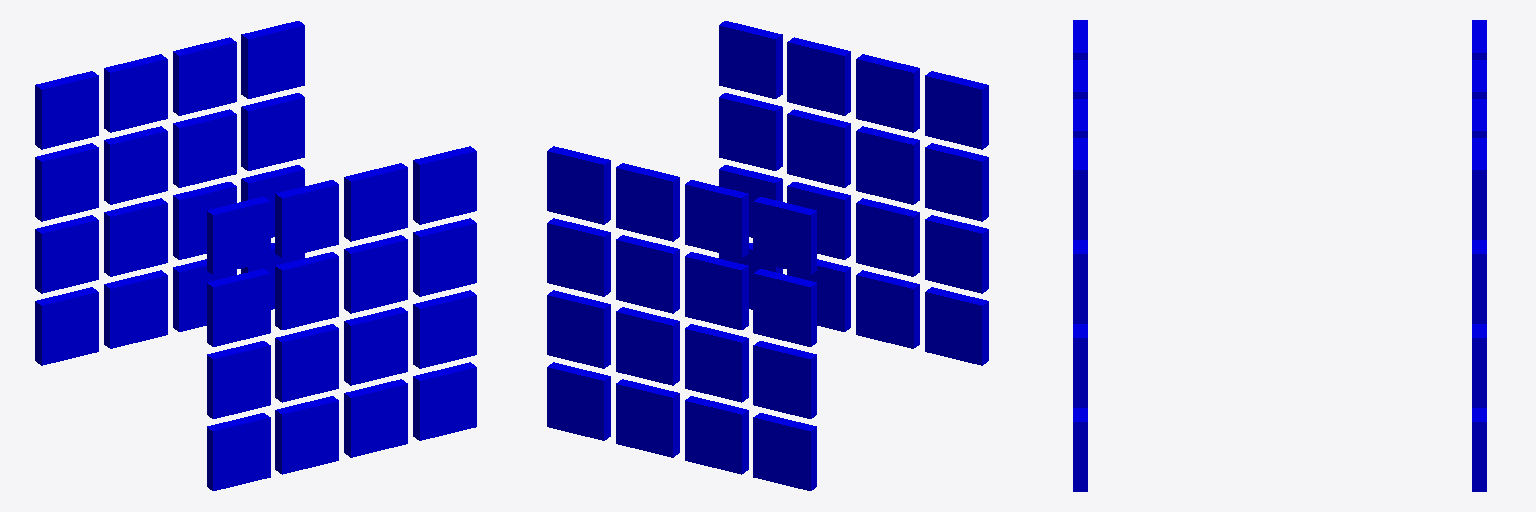
--- Render facts (derived) ---
Views: 3 orthographic renders of the robot side by side, from view 1: azimuth 30°, elevation 25°; view 2: azimuth 150°, elevation 25°; view 3: azimuth 270°, elevation 25°.
Model vx300s with 46 links and 45 joints (6 revolute, 2 prismatic, 37 fixed), rooted at vx300s/base_link, posed all joints at 0 but 2 set to mid-range because 0 is outside their limits (left_finger = 0.039, right_finger = -0.039).
Visible links, largest first — view 1: vx300s/right_tactile_map_link11, vx300s/left_tactile_map_link11, vx300s/left_tactile_map_link16, vx300s/right_tactile_map_link1, vx300s/right_tactile_map_link6, vx300s/left_tactile_map_link4, vx300s/left_tactile_map_link7, vx300s/left_tactile_map_link9, vx300s/left_tactile_map_link12, vx300s/right_tactile_map_link5, vx300s/right_tactile_map_link8, vx300s/right_tactile_map_link10 (+20 smaller); view 2: vx300s/left_tactile_map_link5, vx300s/left_tactile_map_link6, vx300s/left_tactile_map_link11, vx300s/right_tactile_map_link11, vx300s/right_tactile_map_link12, vx300s/left_tactile_map_link8, vx300s/right_tactile_map_link9, vx300s/left_tactile_map_link1, vx300s/left_tactile_map_link4, vx300s/left_tactile_map_link7, vx300s/left_tactile_map_link9, vx300s/left_tactile_map_link10 (+20 smaller); view 3: vx300s/left_tactile_map_link4, vx300s/right_tactile_map_link4, vx300s/left_tactile_map_link1, vx300s/left_tactile_map_link2, vx300s/left_tactile_map_link3, vx300s/right_tactile_map_link1, vx300s/right_tactile_map_link2, vx300s/right_tactile_map_link3, vx300s/left_tactile_map_link16, vx300s/right_tactile_map_link16, vx300s/left_tactile_map_link8, vx300s/left_tactile_map_link12 (+2 smaller).
Boxes of the visible links, x1,y1,x2,y2 form: vx300s/right_tactile_map_link11: [275, 252, 338, 329]; vx300s/left_tactile_map_link11: [104, 126, 167, 204]; vx300s/left_tactile_map_link16: [35, 71, 98, 149]; vx300s/right_tactile_map_link1: [413, 362, 476, 440]; vx300s/right_tactile_map_link6: [344, 307, 407, 385]; vx300s/left_tactile_map_link4: [241, 21, 304, 98]; vx300s/left_tactile_map_link7: [173, 109, 236, 187]; vx300s/left_tactile_map_link9: [104, 270, 167, 348]; vx300s/left_tactile_map_link12: [104, 54, 167, 132]; vx300s/right_tactile_map_link5: [344, 379, 407, 457]; vx300s/right_tactile_map_link8: [344, 163, 407, 241]; vx300s/right_tactile_map_link10: [275, 324, 338, 402]; vx300s/left_tactile_map_link5: [616, 379, 679, 457]; vx300s/left_tactile_map_link6: [616, 307, 679, 385]; vx300s/left_tactile_map_link11: [685, 252, 748, 329]; vx300s/right_tactile_map_link11: [856, 126, 919, 204]; vx300s/right_tactile_map_link12: [856, 54, 919, 132]; vx300s/left_tactile_map_link8: [616, 163, 679, 241]; vx300s/right_tactile_map_link9: [856, 270, 919, 348]; vx300s/left_tactile_map_link1: [547, 362, 610, 440]; vx300s/left_tactile_map_link4: [547, 146, 610, 224]; vx300s/left_tactile_map_link7: [616, 235, 679, 313]; vx300s/left_tactile_map_link9: [685, 396, 748, 474]; vx300s/left_tactile_map_link10: [685, 324, 748, 402]; vx300s/left_tactile_map_link4: [1472, 138, 1486, 239]; vx300s/right_tactile_map_link4: [1073, 138, 1087, 239]; vx300s/left_tactile_map_link1: [1472, 408, 1486, 491]; vx300s/left_tactile_map_link2: [1472, 324, 1486, 407]; vx300s/left_tactile_map_link3: [1472, 240, 1486, 323]; vx300s/right_tactile_map_link1: [1073, 408, 1087, 491]; vx300s/right_tactile_map_link2: [1073, 324, 1087, 407]; vx300s/right_tactile_map_link3: [1073, 240, 1087, 323]; vx300s/left_tactile_map_link16: [1472, 20, 1486, 59]; vx300s/right_tactile_map_link16: [1073, 20, 1087, 59]; vx300s/left_tactile_map_link8: [1472, 99, 1486, 137]; vx300s/left_tactile_map_link12: [1472, 60, 1486, 98].
Size in the robot's own frame: 0.046 by 0.0538 by 0.046 metres.
Meshes: 10 distinct files referenced, 0 mesh visuals loaded (none loaded); not drawn: 11 (reference not matched to a file when rendering).

URDF robot description (vx300s):
<?xml version="1.0" ?>
<!-- =================================================================================== -->
<!-- |    This document was autogenerated by xacro from vx300s.urdf.xacro              | -->
<!-- |    EDITING THIS FILE BY HAND IS NOT RECOMMENDED                                 | -->
<!-- =================================================================================== -->
<robot name="vx300s">
  <!-- <material name="interbotix_black">
    <texture filename="meshes/interbotix_black.png"/>
  </material> -->
  <link name="vx300s/base_link">
    <visual>
      <origin rpy="0 0 1.5707963267948966" xyz="0 0 0"/>
      <geometry>
        <mesh filename="meshes/vx300s_meshes/vx300s_1_base.stl" scale="0.001 0.001 0.001"/>
      </geometry>
    </visual>
    <collision>
      <origin rpy="0 0 1.5707963267948966" xyz="0 0 0"/>
      <geometry>
        <mesh filename="meshes/vx300s_meshes/vx300s_1_base.stl" scale="0.001 0.001 0.001"/>
      </geometry>
    </collision>
    <inertial>
      <origin rpy="0 0 1.5707963267948966" xyz="-0.0534774000 -0.0005625750 0.0205961000"/>
      <mass value="0.969034"/>
      <inertia ixx="0.0060240000" ixy="0.0000471300" ixz="0.0000038510" iyy="0.0017000000" iyz="-0.0000841500" izz="0.0071620000"/>
    </inertial>
  </link>
  <joint name="waist" type="revolute">
    <axis xyz="0 0 1"/>
    <limit effort="10" lower="-3.141582653589793" upper="3.141582653589793" velocity="3.141592653589793"/>
    <origin rpy="0 0 0" xyz="0 0 0.079"/>
    <parent link="vx300s/base_link"/>
    <child link="vx300s/shoulder_link"/>
    <dynamics friction="0.1"/>
  </joint>

  <link name="vx300s/shoulder_link">
    <visual>
      <origin rpy="0 0 1.5707963267948966" xyz="0 0 -0.003"/>
      <geometry>
        <mesh filename="meshes/vx300s_meshes/vx300s_2_shoulder.stl" scale="0.001 0.001 0.001"/>
      </geometry>
    </visual>
    <collision>
      <origin rpy="0 0 1.5707963267948966" xyz="0 0 -0.003"/>
      <geometry>
        <mesh filename="meshes/vx300s_meshes/vx300s_2_shoulder.stl" scale="0.001 0.001 0.001"/>
      </geometry>
    </collision>
    <inertial>
      <origin rpy="0 0 1.5707963267948966" xyz="0.0002592330 -0.0000033552 0.0116129000"/>
      <mass value="0.798614"/>
      <inertia ixx="0.0009388000" ixy="-0.0000000010" ixz="-0.0000000191" iyy="0.0011380000" iyz="0.0000059568" izz="0.0012010000"/>
    </inertial>
  </link>
  <joint name="shoulder" type="revolute">
    <axis xyz="0 1 0"/>
    <limit effort="20" lower="-1.8500490071139892" upper="1.2566370614359172" velocity="3.141592653589793"/>
    <origin rpy="0 0 0" xyz="0 0 0.04805"/>
    <parent link="vx300s/shoulder_link"/>
    <child link="vx300s/upper_arm_link"/>
    <dynamics friction="0.1"/>
  </joint>

  <link name="vx300s/upper_arm_link">
    <visual>
      <origin rpy="0 0 1.5707963267948966" xyz="0 0 0"/>
      <geometry>
        <mesh filename="meshes/vx300s_meshes/vx300s_3_upper_arm.stl" scale="0.001 0.001 0.001"/>
      </geometry>
    </visual>
    <collision>
      <origin rpy="0 0 1.5707963267948966" xyz="0 0 0"/>
      <geometry>
        <mesh filename="meshes/vx300s_meshes/vx300s_3_upper_arm.stl" scale="0.001 0.001 0.001"/>
      </geometry>
    </collision>
    <inertial>
      <origin rpy="0 0 1.5707963267948966" xyz="0.0206949000 0.0000000004 0.2264590000"/>
      <mass value="0.792592"/>
      <inertia ixx="0.0089250000" ixy="0.0000000000" ixz="0.0000000000" iyy="0.0089370000" iyz="0.0012010000" izz="0.0009357000"/>
    </inertial>
  </link>
  <joint name="elbow" type="revolute">
    <axis xyz="0 1 0"/>
    <limit effort="15" lower="-1.7627825445142729" upper="1.6057029118347832" velocity="3.141592653589793"/>
    <origin rpy="0 0 0" xyz="0.05955 0 0.3"/>
    <parent link="vx300s/upper_arm_link"/>
    <child link="vx300s/upper_forearm_link"/>
    <dynamics friction="0.1"/>
  </joint>

  <link name="vx300s/upper_forearm_link">
    <visual>
      <origin rpy="0 0 0" xyz="0 0 0"/>
      <geometry>
        <mesh filename="meshes/vx300s_meshes/vx300s_4_upper_forearm.stl" scale="0.001 0.001 0.001"/>
      </geometry>
    </visual>
    <collision>
      <origin rpy="0 0 0" xyz="0 0 0"/>
      <geometry>
        <mesh filename="meshes/vx300s_meshes/vx300s_4_upper_forearm.stl" scale="0.001 0.001 0.001"/>
      </geometry>
    </collision>
    <inertial>
      <origin rpy="0 0 0" xyz="0.105723 0 0"/>
      <mass value="0.322228"/>
      <inertia ixx="0.0001524000" ixy="-0.0000188300" ixz="-0.0000084064" iyy="0.0013420000" iyz="0.0000012564" izz="0.0014410000"/>
    </inertial>
  </link>
  <joint name="forearm_roll" type="revolute">
    <axis xyz="1 0 0"/>
    <limit effort="15" lower="-3.141582653589793" upper="3.141582653589793" velocity="3.141592653589793"/>
    <origin rpy="0 0 0" xyz="0.2 0 0"/>
    <parent link="vx300s/upper_forearm_link"/>
    <child link="vx300s/lower_forearm_link"/>
    <dynamics friction="0.2"/>
  </joint>

  <link name="vx300s/lower_forearm_link">
    <visual>
      <origin rpy="3.141592653589793 0 0" xyz="0 0 0"/>
      <geometry>
        <mesh filename="meshes/vx300s_meshes/vx300s_5_lower_forearm.stl" scale="0.001 0.001 0.001"/>
      </geometry>
    </visual>
    <collision>
      <origin rpy="3.141592653589793 0 0" xyz="0 0 0"/>
      <geometry>
        <mesh filename="meshes/vx300s_meshes/vx300s_5_lower_forearm.stl" scale="0.001 0.001 0.001"/>
      </geometry>
    </collision>
    <inertial>
      <origin rpy="3.141592653589793 0 0" xyz="0.0513477000 0.0068046200 0"/>
      <mass value="0.414823"/>
      <inertia ixx="0.0001753000" ixy="-0.0000852800" ixz="0" iyy="0.0005269000" iyz="0" izz="0.0005911000"/>
    </inertial>
  </link>
  <joint name="wrist_angle" type="revolute">
    <axis xyz="0 1 0"/>
    <limit effort="10" lower="-1.8675022996339325" upper="2.234021442552742" velocity="3.141592653589793"/>
    <origin rpy="0 0 0" xyz="0.1 0 0"/>
    <parent link="vx300s/lower_forearm_link"/>
    <child link="vx300s/wrist_link"/>
    <dynamics friction="0.1"/>
  </joint>

  <link name="vx300s/wrist_link">
    <visual>
      <origin rpy="0 0 1.5707963267948966" xyz="0 0 0"/>
      <geometry>
        <mesh filename="meshes/vx300s_meshes/vx300s_6_wrist.stl" scale="0.001 0.001 0.001"/>
      </geometry>
    </visual>
    <collision>
      <origin rpy="0 0 1.5707963267948966" xyz="0 0 0"/>
      <geometry>
        <mesh filename="meshes/vx300s_meshes/vx300s_6_wrist.stl" scale="0.001 0.001 0.001"/>
      </geometry>
    </collision>
    <inertial>
      <origin rpy="0 0 1.5707963267948966" xyz="0.0467430000 -0.0000076652 0.0105650000"/>
      <mass value="0.115395"/>
      <inertia ixx="0.0000463100" ixy="0.0000000195" ixz="0.0000000023" iyy="0.0000451400" iyz="0.0000042002" izz="0.0000527000"/>
    </inertial>
  </link>
  <joint name="wrist_rotate" type="revolute">
    <axis xyz="1 0 0"/>
    <limit effort="5" lower="-3.141582653589793" upper="3.141582653589793" velocity="3.141592653589793"/>
    <origin rpy="0 0 0" xyz="0.069744 0 0"/>
    <parent link="vx300s/wrist_link"/>
    <child link="vx300s/gripper_link"/>
    <dynamics friction="0.1"/>
  </joint>

  <link name="vx300s/gripper_link">
    <visual>
      <origin rpy="0 0 1.5707963267948966" xyz="-0.02 0 0"/>
      <geometry>
        <mesh filename="meshes/vx300s_meshes/vx300s_7_gripper.stl" scale="0.001 0.001 0.001"/>
      </geometry>
    </visual>
    <collision>
      <origin rpy="0 0 1.5707963267948966" xyz="-0.02 0 0"/>
      <geometry>
        <mesh filename="meshes/vx300s_meshes/vx300s_7_gripper.stl" scale="0.001 0.001 0.001"/>
      </geometry>
    </collision>
    <inertial>
      <origin rpy="0 0 1.5707963267948966" xyz="0.0230010000 0.0000000000 0.0115230000"/>
      <mass value="0.097666"/>
      <inertia ixx="0.0000326800" ixy="0.0000000000" ixz="0.0000000000" iyy="0.0000243600" iyz="0.0000002785" izz="0.0000211900"/>
    </inertial>
  </link>
  <joint name="ee_arm" type="fixed">
    <axis xyz="1 0 0"/>
    <origin rpy="0 0 0" xyz="0.042825 0 0"/>
    <parent link="vx300s/gripper_link"/>
    <child link="vx300s/ee_arm_link"/>
  </joint>
  <link name="vx300s/ee_arm_link">
    <inertial>
      <mass value="0.001"/>
      <inertia ixx="0.0001" ixy="0" ixz="0" iyy="0.0001" iyz="0" izz="0.0001"/>
    </inertial>
  </link>
  <joint name="gripper" type="fixed">
    <axis xyz="1 0 0"/>
    <limit effort="1" velocity="3.141592653589793"/>
    <origin rpy="0 0 0" xyz="0.005675 0 0"/>
    <parent link="vx300s/ee_arm_link"/>
    <child link="vx300s/gripper_prop_link"/>
    <dynamics friction="0.1"/>
  </joint>

  <link name="vx300s/gripper_prop_link">
    <visual>
      <origin rpy="0 0 1.5707963267948966" xyz="-0.0685 0 0"/>
      <geometry>
        <mesh filename="meshes/vx300s_meshes/vx300s_8_gripper_prop.stl" scale="0.001 0.001 0.001"/>
      </geometry>
    </visual>
    <collision>
      <origin rpy="0 0 1.5707963267948966" xyz="-0.0685 0 0"/>
      <geometry>
        <mesh filename="meshes/vx300s_meshes/vx300s_8_gripper_prop.stl" scale="0.001 0.001 0.001"/>
      </geometry>
    </collision>
    <inertial>
      <origin rpy="0 0 1.5707963267948966" xyz="0.0023780000 0.0000000285 0.0000000000"/>
      <mass value="0.008009"/>
      <inertia ixx="0.0000020386" ixy="0.0000000000" ixz="0.0000006559" iyy="0.0000042979" iyz="0.0000000000" izz="0.0000023796"/>
    </inertial>
  </link>
  <!-- If the AR tag is being used, then add the AR tag mount -->
  <!-- If the gripper bar is being used, then also add the gripper bar -->
  <joint name="gripper_bar" type="fixed">
    <axis xyz="1 0 0"/>
    <origin rpy="0 0 0" xyz="0 0 0"/>
    <parent link="vx300s/ee_arm_link"/>
    <child link="vx300s/gripper_bar_link"/>
  </joint>
  <link name="vx300s/gripper_bar_link">
    <visual>
      <origin rpy="0 0 1.5707963267948966" xyz="-0.063 0 0"/>
      <geometry>
        <mesh filename="meshes/vx300s_meshes/vx300s_9_gripper_bar.stl" scale="0.001 0.001 0.001"/>
      </geometry>
    </visual>
    <collision>
      <origin rpy="0 0 1.5707963267948966" xyz="-0.063 0 0"/>
      <geometry>
        <mesh filename="meshes/vx300s_meshes/vx300s_9_gripper_bar.stl" scale="0.001 0.001 0.001"/>
      </geometry>
    </collision>
    <inertial>
      <origin rpy="0 0 1.5707963267948966" xyz="0.0067940000 -0.0000004272 -0.0007760000"/>
      <mass value="0.150986"/>
      <inertia ixx="0.0000789500" ixy="-0.0000000012" ixz="0.0000001341" iyy="0.0003283000" iyz="0.0000017465" izz="0.0003095000"/>
    </inertial>
  </link>
  <joint name="ee_bar" type="fixed">
    <axis xyz="1 0 0"/>
    <origin rpy="0 0 0" xyz="0.025875 0 0"/>
    <parent link="vx300s/gripper_bar_link"/>
    <child link="vx300s/fingers_link"/>
  </joint>
  <link name="vx300s/fingers_link">
    <inertial>
      <mass value="0.001"/>
      <inertia ixx="0.0001" ixy="0" ixz="0" iyy="0.0001" iyz="0" izz="0.0001"/>
    </inertial>
  </link>
  <!-- If the gripper fingers are being used, add those as well -->
  <joint name="left_finger" type="prismatic">
    <axis xyz="0 1 0"/>
    <limit effort="1" lower="0.021" upper="0.057" velocity="3.14"/>
    <origin rpy="0 0 0" xyz="0 0 0"/>
    <parent link="vx300s/fingers_link"/>
    <child link="vx300s/left_finger_link"/>
    <dynamics friction="0.1"/>
  </joint>

  <link name="vx300s/left_finger_link">
    <visual>
      <origin rpy="1.5707963267948966 -3.141592653589793 1.5707963267948966" xyz="-0.0404 -0.0575 0"/>
      <geometry>
        <mesh filename="meshes/vx300s_meshes/vx300s_10_gripper_finger.stl" scale="0.001 0.001 0.001"/>
      </geometry>
    </visual>
    <collision>
      <origin rpy="1.5707963267948966 -3.141592653589793 1.5707963267948966" xyz="-0.0404 -0.0575 0"/>
      <geometry>
        <mesh filename="meshes/vx300s_meshes/vx300s_10_gripper_finger.stl" scale="0.001 0.001 0.001"/>
      </geometry>
    </collision>
    <inertial>
      <origin rpy="3.141592653589793 3.141592653589793 1.5707963267948966" xyz="0.0173440000 -0.0060692000 0.0000000000"/>
      <mass value="0.001"/>
      <inertia ixx="0.0000243300" ixy="-0.0000024004" ixz="0.0000000000" iyy="0.0000125500" iyz="0.0000000000" izz="0.0000141700"/>
    </inertial>
  </link>


  <!-- ====================================If the tactile sensors are being used, add those as well ======================================-->

  <joint name="left_tactile_1" type="fixed">
    <axis xyz="1 0 0"/>
    <origin rpy="0 0 1.5707" xyz="0 0 0"/>
    <parent link="vx300s/left_finger_link"/>
    <child link="vx300s/left_tactile_map_link1"/>
  </joint>
  <link name="vx300s/left_tactile_map_link1">
    <visual>
      <origin rpy="0 0 0" xyz="-0.0131 -0.05 -0.018"/>
      <geometry>
        <box size="0.002001 0.01 0.01"/>
      </geometry>
      <material name="blue">
        <color rgba= "0 0 1 1"/>
      </material>
    </visual>
    <collision>
      <origin rpy="0 0 0" xyz="-0.0131 -0.05 -0.018"/>
      <geometry>
        <box size="0.002001 0.01 0.01"/>
      </geometry>
    </collision>
    <inertial>
      <origin rpy="3.141592653589793 3.141592653589793 1.5707963267948966" xyz="0.0173440000 -0.0060692000 0.0000000000"/>
      <!-- <mass value="0.034796"/> -->
      <mass value="0.00001"/>
      <inertia ixx="0.0000243300" ixy="-0.0000024004" ixz="0.0000000000" iyy="0.0000125500" iyz="0.0000000000" izz="0.00001011700"/>
    </inertial>
  </link>

  <joint name="left_tactile_2" type="fixed">
    <axis xyz="1 0 0"/>
    <origin rpy="0 0 1.5707" xyz="0 0 0"/>
    <parent link="vx300s/left_finger_link"/>
    <child link="vx300s/left_tactile_map_link2"/>
  </joint>
  <link name="vx300s/left_tactile_map_link2">
    <visual>
      <origin rpy="0 0 0" xyz="-0.0131 -0.05 -0.006"/>
      <geometry>
        <box size="0.002001 0.01 0.01"/>
      </geometry>
      <material name="blue">
        <color rgba= "0 0 1 1"/>
      </material>
    </visual>
    <collision>
      <origin rpy="0 0 0" xyz="-0.0131 -0.05 -0.006"/>
      <geometry>
        <box size="0.002001 0.01 0.01"/>
      </geometry>
    </collision>
    <inertial>
      <origin rpy="3.141592653589793 3.141592653589793 1.5707963267948966" xyz="0.0173440000 -0.0060692000 0.0000000000"/>
      <!-- <mass value="0.034796"/> -->
      <mass value="0.00001"/>
      <inertia ixx="0.0000243300" ixy="-0.0000024004" ixz="0.0000000000" iyy="0.0000125500" iyz="0.0000000000" izz="0.00001011700"/>
    </inertial>
  </link>

  <joint name="left_tactile_3" type="fixed">
    <axis xyz="1 0 0"/>
    <origin rpy="0 0 1.5707" xyz="0 0 0"/>
    <parent link="vx300s/left_finger_link"/>
    <child link="vx300s/left_tactile_map_link3"/>
  </joint>
  <link name="vx300s/left_tactile_map_link3">
    <visual>
      <origin rpy="0 0 0" xyz="-0.0131 -0.05 0.006"/>
      <geometry>
        <box size="0.002001 0.01 0.01"/>
      </geometry>
      <material name="blue">
        <color rgba= "0 0 1 1"/>
      </material>
    </visual>
    <collision>
      <origin rpy="0 0 0" xyz="-0.0131 -0.05 0.006"/>
      <geometry>
        <box size="0.002001 0.01 0.01"/>
      </geometry>
    </collision>
    <inertial>
      <origin rpy="3.141592653589793 3.141592653589793 1.5707963267948966" xyz="0.0173440000 -0.0060692000 0.0000000000"/>
      <!-- <mass value="0.034796"/> -->
      <mass value="0.00001"/>
      <inertia ixx="0.0000243300" ixy="-0.0000024004" ixz="0.0000000000" iyy="0.0000125500" iyz="0.0000000000" izz="0.00001011700"/>
    </inertial>
  </link>

  <joint name="left_tactile_4" type="fixed">
    <axis xyz="1 0 0"/>
    <origin rpy="0 0 1.5707" xyz="0 0 0"/>
    <parent link="vx300s/left_finger_link"/>
    <child link="vx300s/left_tactile_map_link4"/>
  </joint>
  <link name="vx300s/left_tactile_map_link4">
    <visual>
      <origin rpy="0 0 0" xyz="-0.0131 -0.05 0.018"/>
      <geometry>
        <box size="0.002001 0.01 0.01"/>
      </geometry>
      <material name="blue">
        <color rgba= "0 0 1 1"/>
      </material>
    </visual>
    <collision>
      <origin rpy="0 0 0" xyz="-0.0131 -0.05 0.018"/>
      <geometry>
        <box size="0.002001 0.01 0.01"/>
      </geometry>
    </collision>
    <inertial>
      <origin rpy="3.141592653589793 3.141592653589793 1.5707963267948966" xyz="0.0173440000 -0.0060692000 0.0000000000"/>
      <!-- <mass value="0.034796"/> -->
      <mass value="0.00001"/>
      <inertia ixx="0.0000243300" ixy="-0.0000024004" ixz="0.0000000000" iyy="0.0000125500" iyz="0.0000000000" izz="0.00001011700"/>
    </inertial>
  </link>

  <joint name="left_tactile_5" type="fixed">
    <axis xyz="1 0 0"/>
    <origin rpy="0 0 1.5707" xyz="0 0 0"/>
    <parent link="vx300s/left_finger_link"/>
    <child link="vx300s/left_tactile_map_link5"/>
  </joint>
  <link name="vx300s/left_tactile_map_link5">
    <visual>
      <origin rpy="0 0 0" xyz="-0.0131 -0.038 -0.018"/>
      <geometry>
        <box size="0.002001 0.01 0.01"/>
      </geometry>
      <material name="blue">
        <color rgba= "0 0 1 1"/>
      </material>
    </visual>
    <collision>
      <origin rpy="0 0 0" xyz="-0.0131 -0.038 -0.018"/>
      <geometry>
        <box size="0.002001 0.01 0.01"/>
      </geometry>
    </collision>
    <inertial>
      <origin rpy="3.141592653589793 3.141592653589793 1.5707963267948966" xyz="0.0173440000 -0.0060692000 0.0000000000"/>
      <!-- <mass value="0.034796"/> -->
      <mass value="0.00001"/>
      <inertia ixx="0.0000243300" ixy="-0.0000024004" ixz="0.0000000000" iyy="0.0000125500" iyz="0.0000000000" izz="0.00001011700"/>
    </inertial>
  </link>

  <joint name="left_tactile_6" type="fixed">
    <axis xyz="1 0 0"/>
    <origin rpy="0 0 1.5707" xyz="0 0 0"/>
    <parent link="vx300s/left_finger_link"/>
    <child link="vx300s/left_tactile_map_link6"/>
  </joint>
  <link name="vx300s/left_tactile_map_link6">
    <visual>
      <origin rpy="0 0 0" xyz="-0.0131 -0.038 -0.006"/>
      <geometry>
        <box size="0.002001 0.01 0.01"/>
      </geometry>
      <material name="blue">
        <color rgba= "0 0 1 1"/>
      </material>
    </visual>
    <collision>
      <origin rpy="0 0 0" xyz="-0.0131 -0.038 -0.006"/>
      <geometry>
        <box size="0.002001 0.01 0.01"/>
      </geometry>
    </collision>
    <inertial>
      <origin rpy="3.141592653589793 3.141592653589793 1.5707963267948966" xyz="0.0173440000 -0.0060692000 0.0000000000"/>
      <!-- <mass value="0.034796"/> -->
      <mass value="0.00001"/>
      <inertia ixx="0.0000243300" ixy="-0.0000024004" ixz="0.0000000000" iyy="0.0000125500" iyz="0.0000000000" izz="0.00001011700"/>
    </inertial>
  </link>

  <joint name="left_tactile_7" type="fixed">
    <axis xyz="1 0 0"/>
    <origin rpy="0 0 1.5707" xyz="0 0 0"/>
    <parent link="vx300s/left_finger_link"/>
    <child link="vx300s/left_tactile_map_link7"/>
  </joint>
  <link name="vx300s/left_tactile_map_link7">
    <visual>
      <origin rpy="0 0 0" xyz="-0.0131 -0.038 0.006"/>
      <geometry>
        <box size="0.002001 0.01 0.01"/>
      </geometry>
      <material name="blue">
        <color rgba= "0 0 1 1"/>
      </material>
    </visual>
    <collision>
      <origin rpy="0 0 0" xyz="-0.0131 -0.038 0.006"/>
      <geometry>
        <box size="0.002001 0.01 0.01"/>
      </geometry>
    </collision>
    <inertial>
      <origin rpy="3.141592653589793 3.141592653589793 1.5707963267948966" xyz="0.0173440000 -0.0060692000 0.0000000000"/>
      <!-- <mass value="0.034796"/> -->
      <mass value="0.00001"/>
      <inertia ixx="0.0000243300" ixy="-0.0000024004" ixz="0.0000000000" iyy="0.0000125500" iyz="0.0000000000" izz="0.00001011700"/>
    </inertial>
  </link>

  <joint name="left_tactile_8" type="fixed">
    <axis xyz="1 0 0"/>
    <origin rpy="0 0 1.5707" xyz="0 0 0"/>
    <parent link="vx300s/left_finger_link"/>
    <child link="vx300s/left_tactile_map_link8"/>
  </joint>
  <link name="vx300s/left_tactile_map_link8">
    <visual>
      <origin rpy="0 0 0" xyz="-0.0131 -0.038 0.018"/>
      <geometry>
        <box size="0.002001 0.01 0.01"/>
      </geometry>
      <material name="blue">
        <color rgba= "0 0 1 1"/>
      </material>
    </visual>
    <collision>
      <origin rpy="0 0 0" xyz="-0.0131 -0.038 0.018"/>
      <geometry>
        <box size="0.002001 0.01 0.01"/>
      </geometry>
    </collision>
    <inertial>
      <origin rpy="3.141592653589793 3.141592653589793 1.5707963267948966" xyz="0.0173440000 -0.0060692000 0.0000000000"/>
      <!-- <mass value="0.034796"/> -->
      <mass value="0.00001"/>
      <inertia ixx="0.0000243300" ixy="-0.0000024004" ixz="0.0000000000" iyy="0.0000125500" iyz="0.0000000000" izz="0.00001011700"/>
    </inertial>
  </link>

  <joint name="left_tactile_9" type="fixed">
    <axis xyz="1 0 0"/>
    <origin rpy="0 0 1.5707" xyz="0 0 0"/>
    <parent link="vx300s/left_finger_link"/>
    <child link="vx300s/left_tactile_map_link9"/>
  </joint>
  <link name="vx300s/left_tactile_map_link9">
    <visual>
      <origin rpy="0 0 0" xyz="-0.0131 -0.026 -0.018"/>
      <geometry>
        <box size="0.002001 0.01 0.01"/>
      </geometry>
      <material name="blue">
        <color rgba= "0 0 1 1"/>
      </material>
    </visual>
    <collision>
      <origin rpy="0 0 0" xyz="-0.0131 -0.026 -0.018"/>
      <geometry>
        <box size="0.002001 0.01 0.01"/>
      </geometry>
    </collision>
    <inertial>
      <origin rpy="3.141592653589793 3.141592653589793 1.5707963267948966" xyz="0.0173440000 -0.0060692000 0.0000000000"/>
      <!-- <mass value="0.034796"/> -->
      <mass value="0.00001"/>
      <inertia ixx="0.0000243300" ixy="-0.0000024004" ixz="0.0000000000" iyy="0.0000125500" iyz="0.0000000000" izz="0.00001011700"/>
    </inertial>
  </link>

  <joint name="left_tactile_10" type="fixed">
    <axis xyz="1 0 0"/>
    <origin rpy="0 0 1.5707" xyz="0 0 0"/>
    <parent link="vx300s/left_finger_link"/>
    <child link="vx300s/left_tactile_map_link10"/>
  </joint>
  <link name="vx300s/left_tactile_map_link10">
    <visual>
      <origin rpy="0 0 0" xyz="-0.0131 -0.026 -0.006"/>
      <geometry>
        <box size="0.002001 0.01 0.01"/>
      </geometry>
      <material name="blue">
        <color rgba= "0 0 1 1"/>
      </material>
    </visual>
    <collision>
      <origin rpy="0 0 0" xyz="-0.0131 -0.026 -0.006"/>
      <geometry>
        <box size="0.002001 0.01 0.01"/>
      </geometry>
    </collision>
    <inertial>
      <origin rpy="3.141592653589793 3.141592653589793 1.5707963267948966" xyz="0.0173440000 -0.0060692000 0.0000000000"/>
      <!-- <mass value="0.034796"/> -->
      <mass value="0.00001"/>
      <inertia ixx="0.0000243300" ixy="-0.0000024004" ixz="0.0000000000" iyy="0.0000125500" iyz="0.0000000000" izz="0.00001011700"/>
    </inertial>
  </link>

  <joint name="left_tactile_11" type="fixed">
    <axis xyz="1 0 0"/>
    <origin rpy="0 0 1.5707" xyz="0 0 0"/>
    <parent link="vx300s/left_finger_link"/>
    <child link="vx300s/left_tactile_map_link11"/>
  </joint>
  <link name="vx300s/left_tactile_map_link11">
    <visual>
      <origin rpy="0 0 0" xyz="-0.0131 -0.026 0.006"/>
      <geometry>
        <box size="0.002001 0.01 0.01"/>
      </geometry>
      <material name="blue">
        <color rgba= "0 0 1 1"/>
      </material>
    </visual>
    <collision>
      <origin rpy="0 0 0" xyz="-0.0131 -0.026 0.006"/>
      <geometry>
        <box size="0.002001 0.01 0.01"/>
      </geometry>
    </collision>
    <inertial>
      <origin rpy="3.141592653589793 3.141592653589793 1.5707963267948966" xyz="0.0173440000 -0.0060692000 0.0000000000"/>
      <!-- <mass value="0.034796"/> -->
      <mass value="0.00001"/>
      <inertia ixx="0.0000243300" ixy="-0.0000024004" ixz="0.0000000000" iyy="0.0000125500" iyz="0.0000000000" izz="0.00001011700"/>
    </inertial>
  </link>

  <joint name="left_tactile_12" type="fixed">
    <axis xyz="1 0 0"/>
    <origin rpy="0 0 1.5707" xyz="0 0 0"/>
    <parent link="vx300s/left_finger_link"/>
    <child link="vx300s/left_tactile_map_link12"/>
  </joint>
  <link name="vx300s/left_tactile_map_link12">
    <visual>
      <origin rpy="0 0 0" xyz="-0.0131 -0.026 0.018"/>
      <geometry>
        <box size="0.002001 0.01 0.01"/>
      </geometry>
      <material name="blue">
        <color rgba= "0 0 1 1"/>
      </material>
    </visual>
    <collision>
      <origin rpy="0 0 0" xyz="-0.0131 -0.026 0.018"/>
      <geometry>
        <box size="0.002001 0.01 0.01"/>
      </geometry>
    </collision>
    <inertial>
      <origin rpy="3.141592653589793 3.141592653589793 1.5707963267948966" xyz="0.0173440000 -0.0060692000 0.0000000000"/>
      <!-- <mass value="0.034796"/> -->
      <mass value="0.00001"/>
      <inertia ixx="0.0000243300" ixy="-0.0000024004" ixz="0.0000000000" iyy="0.0000125500" iyz="0.0000000000" izz="0.00001011700"/>
    </inertial>
  </link>

  <joint name="left_tactile_13" type="fixed">
    <axis xyz="1 0 0"/>
    <origin rpy="0 0 1.5707" xyz="0 0 0"/>
    <parent link="vx300s/left_finger_link"/>
    <child link="vx300s/left_tactile_map_link13"/>
  </joint>
  <link name="vx300s/left_tactile_map_link13">
    <visual>
      <origin rpy="0 0 0" xyz="-0.0131 -0.014 -0.018"/>
      <geometry>
        <box size="0.002001 0.01 0.01"/>
      </geometry>
      <material name="blue">
        <color rgba= "0 0 1 1"/>
      </material>
    </visual>
    <collision>
      <origin rpy="0 0 0" xyz="-0.0131 -0.014 -0.018"/>
      <geometry>
        <box size="0.002001 0.01 0.01"/>
      </geometry>
    </collision>
    <inertial>
      <origin rpy="3.141592653589793 3.141592653589793 1.5707963267948966" xyz="0.0173440000 -0.0060692000 0.0000000000"/>
      <!-- <mass value="0.034796"/> -->
      <mass value="0.00001"/>
      <inertia ixx="0.0000243300" ixy="-0.0000024004" ixz="0.0000000000" iyy="0.0000125500" iyz="0.0000000000" izz="0.0000141700"/>
    </inertial>
  </link>

  <joint name="left_tactile_14" type="fixed">
    <axis xyz="1 0 0"/>
    <origin rpy="0 0 1.5707" xyz="0 0 0"/>
    <parent link="vx300s/left_finger_link"/>
    <child link="vx300s/left_tactile_map_link14"/>
  </joint>
  <link name="vx300s/left_tactile_map_link14">
    <visual>
      <origin rpy="0 0 0" xyz="-0.0131 -0.014 -0.006"/>
      <geometry>
        <box size="0.002001 0.01 0.01"/>
      </geometry>
      <material name="blue">
        <color rgba= "0 0 1 1"/>
      </material>
    </visual>
    <collision>
      <origin rpy="0 0 0" xyz="-0.0131 -0.014 -0.006"/>
      <geometry>
        <box size="0.002001 0.01 0.01"/>
      </geometry>
    </collision>
    <inertial>
      <origin rpy="3.141592653589793 3.141592653589793 1.5707963267948966" xyz="0.0173440000 -0.0060692000 0.0000000000"/>
      <!-- <mass value="0.034796"/> -->
      <mass value="0.00001"/>
      <inertia ixx="0.0000243300" ixy="-0.0000024004" ixz="0.0000000000" iyy="0.0000125500" iyz="0.0000000000" izz="0.0000141700"/>
    </inertial>
  </link>

  <joint name="left_tactile_15" type="fixed">
    <axis xyz="1 0 0"/>
    <origin rpy="0 0 1.5707" xyz="0 0 0"/>
    <parent link="vx300s/left_finger_link"/>
    <child link="vx300s/left_tactile_map_link15"/>
  </joint>
  <link name="vx300s/left_tactile_map_link15">
    <visual>
      <origin rpy="0 0 0" xyz="-0.0131 -0.014 0.006"/>
      <geometry>
        <box size="0.002001 0.01 0.01"/>
      </geometry>
      <material name="blue">
        <color rgba= "0 0 1 1"/>
      </material>
    </visual>
    <collision>
      <origin rpy="0 0 0" xyz="-0.0131 -0.014 0.006"/>
      <geometry>
        <box size="0.002001 0.01 0.01"/>
      </geometry>
    </collision>
    <inertial>
      <origin rpy="3.141592653589793 3.141592653589793 1.5707963267948966" xyz="0.0173440000 -0.0060692000 0.0000000000"/>
      <!-- <mass value="0.034796"/> -->
      <mass value="0.00001"/>
      <inertia ixx="0.0000243300" ixy="-0.0000024004" ixz="0.0000000000" iyy="0.0000125500" iyz="0.0000000000" izz="0.0000141700"/>
    </inertial>
  </link>

  <joint name="left_tactile_16" type="fixed">
    <axis xyz="1 0 0"/>
    <origin rpy="0 0 1.5707" xyz="0 0 0"/>
    <parent link="vx300s/left_finger_link"/>
    <child link="vx300s/left_tactile_map_link16"/>
  </joint>
  <link name="vx300s/left_tactile_map_link16">
    <visual>
      <origin rpy="0 0 0" xyz="-0.0131 -0.014 0.018"/>
      <geometry>
        <box size="0.002001 0.01 0.01"/>
      </geometry>
      <material name="blue">
        <color rgba= "0 0 1 1"/>
      </material>
    </visual>
    <collision>
      <origin rpy="0 0 0" xyz="-0.0131 -0.014 0.018"/>
      <geometry>
        <box size="0.002001 0.01 0.01"/>
      </geometry>
    </collision>
    <inertial>
      <origin rpy="3.141592653589793 3.141592653589793 1.5707963267948966" xyz="0.0173440000 -0.0060692000 0.0000000000"/>
      <!-- <mass value="0.034796"/> -->
      <mass value="0.00001"/>
      <inertia ixx="0.0000243300" ixy="-0.0000024004" ixz="0.0000000000" iyy="0.0000125500" iyz="0.0000000000" izz="0.0000141700"/>
    </inertial>
  </link>

  <!-- ====================================If the tactile sensors are being used, add those as well ======================================-->

  <joint name="right_finger" type="prismatic">
    <axis xyz="0 1 0"/>
    <limit effort="1" lower="-0.057" upper="-0.021" velocity="3.14"/>
    <origin rpy="0 0 0" xyz="0 0 0"/>
    <parent link="vx300s/fingers_link"/>
    <child link="vx300s/right_finger_link"/>
    <dynamics friction="0.1"/>
    <mimic joint="left_finger" multiplier="-1" offset="0"/>
  </joint>

  <link name="vx300s/right_finger_link">
    <visual>
      <origin rpy="-1.5707963267948966 3.141592653589793 -1.5707963267948966" xyz="-0.0404 0.0575 0 "/>
      <geometry>
        <mesh filename="meshes/vx300s_meshes/vx300s_10_gripper_finger.stl" scale="0.001 0.001 0.001"/>
      </geometry>
    </visual>
    <collision>
      <origin rpy="-1.5707963267948966 3.141592653589793 -1.5707963267948966" xyz="-0.0404 0.0575 0 "/>
      <geometry>
        <mesh filename="meshes/vx300s_meshes/vx300s_10_gripper_finger.stl" scale="0.001 0.001 0.001"/>
      </geometry>
    </collision>
    <inertial>
      <origin rpy="0 3.141592653589793 1.5707963267948966" xyz="0.0173440000 0.0060692000  0.0000000000"/>
      <!-- <mass value="0.034796"/> -->
      <mass value="0.001"/>
      <inertia ixx="0.0000243300" ixy="0.0000024001" ixz="0.0000000000" iyy="0.0000125500" iyz="0.0000000000" izz="0.0000141700"/>
    </inertial>
  </link>

  <!-- ====================================If the tactile sensors are being used, add those as well ======================================-->

  <joint name="right_tactile_1" type="fixed">
    <axis xyz="1 0 0"/>
    <origin rpy="0 0 1.5707" xyz="0 0 0"/>
    <parent link="vx300s/right_finger_link"/>
    <child link="vx300s/right_tactile_map_link1"/>
  </joint>
  <link name="vx300s/right_tactile_map_link1">
    <visual>
      <origin rpy="0 0 0" xyz="0.0131 -0.05 -0.018"/>
      <geometry>
        <box size="0.002001 0.01 0.01"/>
      </geometry>
      <material name="blue">
        <color rgba= "0 0 1 1"/>
      </material>
    </visual>
    <collision>
      <origin rpy="0 0 0" xyz="0.0131 -0.05 -0.018"/>
      <geometry>
        <box size="0.002001 0.01 0.01"/>
      </geometry>
    </collision>
    <inertial>
      <origin rpy="0 3.141592653589793 1.5707963267948966" xyz="0.0173440000 0.0060692000 0.0000000000"/>
      <!-- <mass value="0.034796"/> -->
      <mass value="0.00001"/>
      <inertia ixx="0.0000243300" ixy="0.0000024004" ixz="0.0000000000" iyy="0.0000125500" iyz="0.0000000000" izz="0.0000141700"/>
    </inertial>
  </link>

  <joint name="right_tactile_2" type="fixed">
    <axis xyz="1 0 0"/>
    <origin rpy="0 0 1.5707" xyz="0 0 0"/>
    <parent link="vx300s/right_finger_link"/>
    <child link="vx300s/right_tactile_map_link2"/>
  </joint>
  <link name="vx300s/right_tactile_map_link2">
    <visual>
      <origin rpy="0 0 0" xyz="0.0131 -0.05 -0.006"/>
      <geometry>
        <box size="0.002001 0.01 0.01"/>
      </geometry>
      <material name="blue">
        <color rgba= "0 0 1 1"/>
      </material>
    </visual>
    <collision>
      <origin rpy="0 0 0" xyz="0.0131 -0.05 -0.006"/>
      <geometry>
        <box size="0.002001 0.01 0.01"/>
      </geometry>
    </collision>
    <inertial>
      <origin rpy="0 3.141592653589793 1.5707963267948966" xyz="0.0173440000 0.0060692000 0.0000000000"/>
      <!-- <mass value="0.034796"/> -->
      <mass value="0.00001"/>
      <inertia ixx="0.0000243300" ixy="0.0000024004" ixz="0.0000000000" iyy="0.0000125500" iyz="0.0000000000" izz="0.0000141700"/>
    </inertial>
  </link>

  <joint name="right_tactile_3" type="fixed">
    <axis xyz="1 0 0"/>
    <origin rpy="0 0 1.5707" xyz="0 0 0"/>
    <parent link="vx300s/right_finger_link"/>
    <child link="vx300s/right_tactile_map_link3"/>
  </joint>
  <link name="vx300s/right_tactile_map_link3">
    <visual>
      <origin rpy="0 0 0" xyz="0.0131 -0.05 0.006"/>
      <geometry>
        <box size="0.002001 0.01 0.01"/>
      </geometry>
      <material name="blue">
        <color rgba= "0 0 1 1"/>
      </material>
    </visual>
    <collision>
      <origin rpy="0 0 0" xyz="0.0131 -0.05 0.006"/>
      <geometry>
        <box size="0.002001 0.01 0.01"/>
      </geometry>
    </collision>
    <inertial>
      <origin rpy="0 3.141592653589793 1.5707963267948966" xyz="0.0173440000 0.0060692000 0.0000000000"/>
      <!-- <mass value="0.034796"/> -->
      <mass value="0.00001"/>
      <inertia ixx="0.0000243300" ixy="0.0000024004" ixz="0.0000000000" iyy="0.0000125500" iyz="0.0000000000" izz="0.0000141700"/>
    </inertial>
  </link>

  <joint name="right_tactile_4" type="fixed">
    <axis xyz="1 0 0"/>
    <origin rpy="0 0 1.5707" xyz="0 0 0"/>
    <parent link="vx300s/right_finger_link"/>
    <child link="vx300s/right_tactile_map_link4"/>
  </joint>
  <link name="vx300s/right_tactile_map_link4">
    <visual>
      <origin rpy="0 0 0" xyz="0.0131 -0.05 0.018"/>
      <geometry>
        <box size="0.002001 0.01 0.01"/>
      </geometry>
      <material name="blue">
        <color rgba= "0 0 1 1"/>
      </material>
    </visual>
    <collision>
      <origin rpy="0 0 0" xyz="0.0131 -0.05 0.018"/>
      <geometry>
        <box size="0.002001 0.01 0.01"/>
      </geometry>
    </collision>
    <inertial>
      <origin rpy="0 3.141592653589793 1.5707963267948966" xyz="0.0173440000 0.0060692000 0.0000000000"/>
      <!-- <mass value="0.034796"/> -->
      <mass value="0.00001"/>
      <inertia ixx="0.0000243300" ixy="0.0000024004" ixz="0.0000000000" iyy="0.0000125500" iyz="0.0000000000" izz="0.0000141700"/>
    </inertial>
  </link>

  <joint name="right_tactile_5" type="fixed">
    <axis xyz="1 0 0"/>
    <origin rpy="0 0 1.5707" xyz="0 0 0"/>
    <parent link="vx300s/right_finger_link"/>
    <child link="vx300s/right_tactile_map_link5"/>
  </joint>
  <link name="vx300s/right_tactile_map_link5">
    <visual>
      <origin rpy="0 0 0" xyz="0.0131 -0.038 -0.018"/>
      <geometry>
        <box size="0.002001 0.01 0.01"/>
      </geometry>
      <material name="blue">
        <color rgba= "0 0 1 1"/>
      </material>
    </visual>
    <collision>
      <origin rpy="0 0 0" xyz="0.0131 -0.038 -0.018"/>
      <geometry>
        <box size="0.002001 0.01 0.01"/>
      </geometry>
    </collision>
    <inertial>
      <origin rpy="0 3.141592653589793 1.5707963267948966" xyz="0.0173440000 0.0060692000 0.0000000000"/>
      <!-- <mass value="0.034796"/> -->
      <mass value="0.00001"/>
      <inertia ixx="0.0000243300" ixy="0.0000024004" ixz="0.0000000000" iyy="0.0000125500" iyz="0.0000000000" izz="0.0000141700"/>
    </inertial>
  </link>

  <joint name="right_tactile_6" type="fixed">
    <axis xyz="1 0 0"/>
    <origin rpy="0 0 1.5707" xyz="0 0 0"/>
    <parent link="vx300s/right_finger_link"/>
    <child link="vx300s/right_tactile_map_link6"/>
  </joint>
  <link name="vx300s/right_tactile_map_link6">
    <visual>
      <origin rpy="0 0 0" xyz="0.0131 -0.038 -0.006"/>
      <geometry>
        <box size="0.002001 0.01 0.01"/>
      </geometry>
      <material name="blue">
        <color rgba= "0 0 1 1"/>
      </material>
    </visual>
    <collision>
      <origin rpy="0 0 0" xyz="0.0131 -0.038 -0.006"/>
      <geometry>
        <box size="0.002001 0.01 0.01"/>
      </geometry>
    </collision>
    <inertial>
      <origin rpy="0 3.141592653589793 1.5707963267948966" xyz="0.0173440000 0.0060692000 0.0000000000"/>
      <!-- <mass value="0.034796"/> -->
      <mass value="0.00001"/>
      <inertia ixx="0.0000243300" ixy="0.0000024004" ixz="0.0000000000" iyy="0.0000125500" iyz="0.0000000000" izz="0.0000141700"/>
    </inertial>
  </link>

  <joint name="right_tactile_7" type="fixed">
    <axis xyz="1 0 0"/>
    <origin rpy="0 0 1.5707" xyz="0 0 0"/>
    <parent link="vx300s/right_finger_link"/>
    <child link="vx300s/right_tactile_map_link7"/>
  </joint>
  <link name="vx300s/right_tactile_map_link7">
    <visual>
      <origin rpy="0 0 0" xyz="0.0131 -0.038 0.006"/>
      <geometry>
        <box size="0.002001 0.01 0.01"/>
      </geometry>
      <material name="blue">
        <color rgba= "0 0 1 1"/>
      </material>
    </visual>
    <collision>
      <origin rpy="0 0 0" xyz="0.0131 -0.038 0.006"/>
      <geometry>
        <box size="0.002001 0.01 0.01"/>
      </geometry>
    </collision>
    <inertial>
      <origin rpy="0 3.141592653589793 1.5707963267948966" xyz="0.0173440000 0.0060692000 0.0000000000"/>
      <!-- <mass value="0.034796"/> -->
      <mass value="0.00001"/>
      <inertia ixx="0.0000243300" ixy="0.0000024004" ixz="0.0000000000" iyy="0.0000125500" iyz="0.0000000000" izz="0.0000141700"/>
    </inertial>
  </link>

  <joint name="right_tactile_8" type="fixed">
    <axis xyz="1 0 0"/>
    <origin rpy="0 0 1.5707" xyz="0 0 0"/>
    <parent link="vx300s/right_finger_link"/>
    <child link="vx300s/right_tactile_map_link8"/>
  </joint>
  <link name="vx300s/right_tactile_map_link8">
    <visual>
      <origin rpy="0 0 0" xyz="0.0131 -0.038 0.018"/>
      <geometry>
        <box size="0.002001 0.01 0.01"/>
      </geometry>
      <material name="blue">
        <color rgba= "0 0 1 1"/>
      </material>
    </visual>
    <collision>
      <origin rpy="0 0 0" xyz="0.0131 -0.038 0.018"/>
      <geometry>
        <box size="0.002001 0.01 0.01"/>
      </geometry>
    </collision>
    <inertial>
      <origin rpy="0 3.141592653589793 1.5707963267948966" xyz="0.0173440000 0.0060692000 0.0000000000"/>
      <!-- <mass value="0.034796"/> -->
      <mass value="0.00001"/>
      <inertia ixx="0.0000243300" ixy="0.0000024004" ixz="0.0000000000" iyy="0.0000125500" iyz="0.0000000000" izz="0.0000141700"/>
    </inertial>
  </link>

  <joint name="right_tactile_9" type="fixed">
    <axis xyz="1 0 0"/>
    <origin rpy="0 0 1.5707" xyz="0 0 0"/>
    <parent link="vx300s/right_finger_link"/>
    <child link="vx300s/right_tactile_map_link9"/>
  </joint>
  <link name="vx300s/right_tactile_map_link9">
    <visual>
      <origin rpy="0 0 0" xyz="0.0131 -0.026 -0.018"/>
      <geometry>
        <box size="0.002001 0.01 0.01"/>
      </geometry>
      <material name="blue">
        <color rgba= "0 0 1 1"/>
      </material>
    </visual>
    <collision>
      <origin rpy="0 0 0" xyz="0.0131 -0.026 -0.018"/>
      <geometry>
        <box size="0.002001 0.01 0.01"/>
      </geometry>
    </collision>
    <inertial>
      <origin rpy="0 3.141592653589793 1.5707963267948966" xyz="0.0173440000 0.0060692000 0.0000000000"/>
      <!-- <mass value="0.034796"/> -->
      <mass value="0.00001"/>
      <inertia ixx="0.0000243300" ixy="0.0000024004" ixz="0.0000000000" iyy="0.0000125500" iyz="0.0000000000" izz="0.0000141700"/>
    </inertial>
  </link>

  <joint name="right_tactile_10" type="fixed">
    <axis xyz="1 0 0"/>
    <origin rpy="0 0 1.5707" xyz="0 0 0"/>
    <parent link="vx300s/right_finger_link"/>
    <child link="vx300s/right_tactile_map_link10"/>
  </joint>
  <link name="vx300s/right_tactile_map_link10">
    <visual>
      <origin rpy="0 0 0" xyz="0.0131 -0.026 -0.006"/>
      <geometry>
        <box size="0.002001 0.01 0.01"/>
      </geometry>
      <material name="blue">
        <color rgba= "0 0 1 1"/>
      </material>
    </visual>
    <collision>
      <origin rpy="0 0 0" xyz="0.0131 -0.026 -0.006"/>
      <geometry>
        <box size="0.002001 0.01 0.01"/>
      </geometry>
    </collision>
    <inertial>
      <origin rpy="0 3.141592653589793 1.5707963267948966" xyz="0.0173440000 0.0060692000 0.0000000000"/>
      <!-- <mass value="0.034796"/> -->
      <mass value="0.00001"/>
      <inertia ixx="0.0000243300" ixy="0.0000024004" ixz="0.0000000000" iyy="0.0000125500" iyz="0.0000000000" izz="0.0000141700"/>
    </inertial>
  </link>

  <joint name="right_tactile_11" type="fixed">
    <axis xyz="1 0 0"/>
    <origin rpy="0 0 1.5707" xyz="0 0 0"/>
    <parent link="vx300s/right_finger_link"/>
    <child link="vx300s/right_tactile_map_link11"/>
  </joint>
  <link name="vx300s/right_tactile_map_link11">
    <visual>
      <origin rpy="0 0 0" xyz="0.0131 -0.026 0.006"/>
      <geometry>
        <box size="0.002001 0.01 0.01"/>
      </geometry>
      <material name="blue">
        <color rgba= "0 0 1 1"/>
      </material>
    </visual>
    <collision>
      <origin rpy="0 0 0" xyz="0.0131 -0.026 0.006"/>
      <geometry>
        <box size="0.002001 0.01 0.01"/>
      </geometry>
    </collision>
    <inertial>
      <origin rpy="0 3.141592653589793 1.5707963267948966" xyz="0.0173440000 0.0060692000 0.0000000000"/>
      <!-- <mass value="0.034796"/> -->
      <mass value="0.00001"/>
      <inertia ixx="0.0000243300" ixy="0.0000024004" ixz="0.0000000000" iyy="0.0000125500" iyz="0.0000000000" izz="0.0000141700"/>
    </inertial>
  </link>

  <joint name="right_tactile_12" type="fixed">
    <axis xyz="1 0 0"/>
    <origin rpy="0 0 1.5707" xyz="0 0 0"/>
    <parent link="vx300s/right_finger_link"/>
    <child link="vx300s/right_tactile_map_link12"/>
  </joint>
  <link name="vx300s/right_tactile_map_link12">
    <visual>
      <origin rpy="0 0 0" xyz="0.0131 -0.026 0.018"/>
      <geometry>
        <box size="0.002001 0.01 0.01"/>
      </geometry>
      <material name="blue">
        <color rgba= "0 0 1 1"/>
      </material>
    </visual>
    <collision>
      <origin rpy="0 0 0" xyz="0.0131 -0.026 0.018"/>
      <geometry>
        <box size="0.002001 0.01 0.01"/>
      </geometry>
    </collision>
    <inertial>
      <origin rpy="0 3.141592653589793 1.5707963267948966" xyz="0.0173440000 0.0060692000 0.0000000000"/>
      <!-- <mass value="0.034796"/> -->
      <mass value="0.00001"/>
      <inertia ixx="0.0000243300" ixy="0.0000024004" ixz="0.0000000000" iyy="0.0000125500" iyz="0.0000000000" izz="0.0000141700"/>
    </inertial>
  </link>

  <joint name="right_tactile_13" type="fixed">
    <axis xyz="1 0 0"/>
    <origin rpy="0 0 1.5707" xyz="0 0 0"/>
    <parent link="vx300s/right_finger_link"/>
    <child link="vx300s/right_tactile_map_link13"/>
  </joint>
  <link name="vx300s/right_tactile_map_link13">
    <visual>
      <origin rpy="0 0 0" xyz="0.0131 -0.014 -0.018"/>
      <geometry>
        <box size="0.002001 0.01 0.01"/>
      </geometry>
      <material name="blue">
        <color rgba= "0 0 1 1"/>
      </material>
    </visual>
    <collision>
      <origin rpy="0 0 0" xyz="0.0131 -0.014 -0.018"/>
      <geometry>
        <box size="0.002001 0.01 0.01"/>
      </geometry>
    </collision>
    <inertial>
      <origin rpy="0 3.141592653589793 1.5707963267948966" xyz="0.0173440000 0.0060692000 0.0000000000"/>
      <!-- <mass value="0.034796"/> -->
      <mass value="0.00001"/>
      <inertia ixx="0.0000243300" ixy="0.0000024004" ixz="0.0000000000" iyy="0.0000125500" iyz="0.0000000000" izz="0.0000141700"/>
    </inertial>
  </link>

  <joint name="right_tactile_14" type="fixed">
    <axis xyz="1 0 0"/>
    <origin rpy="0 0 1.5707" xyz="0 0 0"/>
    <parent link="vx300s/right_finger_link"/>
    <child link="vx300s/right_tactile_map_link14"/>
  </joint>
  <link name="vx300s/right_tactile_map_link14">
    <visual>
      <origin rpy="0 0 0" xyz="0.0131 -0.014 -0.006"/>
      <geometry>
        <box size="0.002001 0.01 0.01"/>
      </geometry>
      <material name="blue">
        <color rgba= "0 0 1 1"/>
      </material>
    </visual>
    <collision>
      <origin rpy="0 0 0" xyz="0.0131 -0.014 -0.006"/>
      <geometry>
        <box size="0.002001 0.01 0.01"/>
      </geometry>
    </collision>
    <inertial>
      <origin rpy="0 3.141592653589793 1.5707963267948966" xyz="0.0173440000 0.0060692000 0.0000000000"/>
      <!-- <mass value="0.034796"/> -->
      <mass value="0.00001"/>
      <inertia ixx="0.0000243300" ixy="0.0000024004" ixz="0.0000000000" iyy="0.0000125500" iyz="0.0000000000" izz="0.0000141700"/>
    </inertial>
  </link>

  <joint name="right_tactile_15" type="fixed">
    <axis xyz="1 0 0"/>
    <origin rpy="0 0 1.5707" xyz="0 0 0"/>
    <parent link="vx300s/right_finger_link"/>
    <child link="vx300s/right_tactile_map_link15"/>
  </joint>
  <link name="vx300s/right_tactile_map_link15">
    <visual>
      <origin rpy="0 0 0" xyz="0.0131 -0.014 0.006"/>
      <geometry>
        <box size="0.002001 0.01 0.01"/>
      </geometry>
      <material name="blue">
        <color rgba= "0 0 1 1"/>
      </material>
    </visual>
    <collision>
      <origin rpy="0 0 0" xyz="0.0131 -0.014 0.006"/>
      <geometry>
        <box size="0.002001 0.01 0.01"/>
      </geometry>
    </collision>
    <inertial>
      <origin rpy="0 3.141592653589793 1.5707963267948966" xyz="0.0173440000 0.0060692000 0.0000000000"/>
      <!-- <mass value="0.034796"/> -->
      <mass value="0.00001"/>
      <inertia ixx="0.0000243300" ixy="0.0000024004" ixz="0.0000000000" iyy="0.0000125500" iyz="0.0000000000" izz="0.0000141700"/>
    </inertial>
  </link>

  <joint name="right_tactile_16" type="fixed">
    <axis xyz="1 0 0"/>
    <origin rpy="0 0 1.5707" xyz="0 0 0"/>
    <parent link="vx300s/right_finger_link"/>
    <child link="vx300s/right_tactile_map_link16"/>
  </joint>
  <link name="vx300s/right_tactile_map_link16">
    <visual>
      <origin rpy="0 0 0" xyz="0.0131 -0.014 0.018"/>
      <geometry>
        <box size="0.002001 0.01 0.01"/>
      </geometry>
      <material name="blue">
        <color rgba= "0 0 1 1"/>
      </material>
    </visual>
    <collision>
      <origin rpy="0 0 0" xyz="0.0131 -0.014 0.018"/>
      <geometry>
        <box size="0.002001 0.01 0.01"/>
      </geometry>
    </collision>
    <inertial>
      <origin rpy="0 3.141592653589793 1.5707963267948966" xyz="0.0173440000 0.0060692000 0.0000000000"/>
      <!-- <mass value="0.034796"/> -->
      <mass value="0.00001"/>
      <inertia ixx="0.0000243300" ixy="0.0000024004" ixz="0.0000000000" iyy="0.0000125500" iyz="0.0000000000" izz="0.0000141700"/>
    </inertial>
  </link>

  <!-- ====================================If the tactile sensors are being used, add those as well ======================================-->

  <joint name="ee_gripper" type="fixed">
    <axis xyz="1 0 0"/>
    <origin rpy="0 0 0" xyz="0.0385 0 0"/>
    <parent link="vx300s/fingers_link"/>
    <child link="vx300s/ee_gripper_link"/>
  </joint>
  <link name="vx300s/ee_gripper_link">
    <inertial>
      <mass value="0.001"/>
      <inertia ixx="0.0001" ixy="0" ixz="0" iyy="0.0001" iyz="0" izz="0.0001"/>
    </inertial>
  </link>
</robot>
